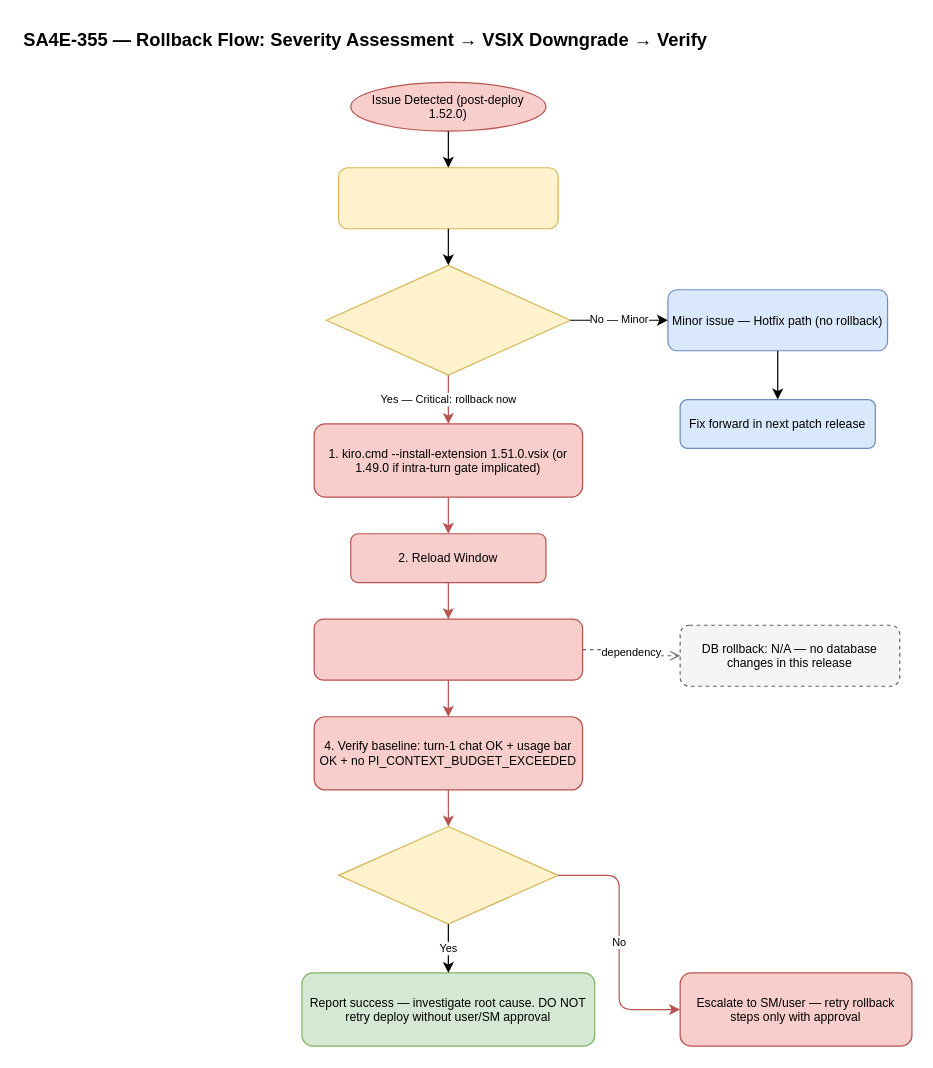
The diagram is 933 pixels wide and 1068 high, and some of its shapes have lost their labels. Each missing label, with the centre of its shape:
"3. Verify: --list-extensions --show-versions shows previous version" belongs at [448,649].
"Assess severity + symptoms (log markers, error rate, turn failures)" belongs at [447,198].
"Critical? (400 reappears / opaque 500 / activation crash loop)" belongs at [447,319].
"Rollback verified?" belongs at [447,874].
